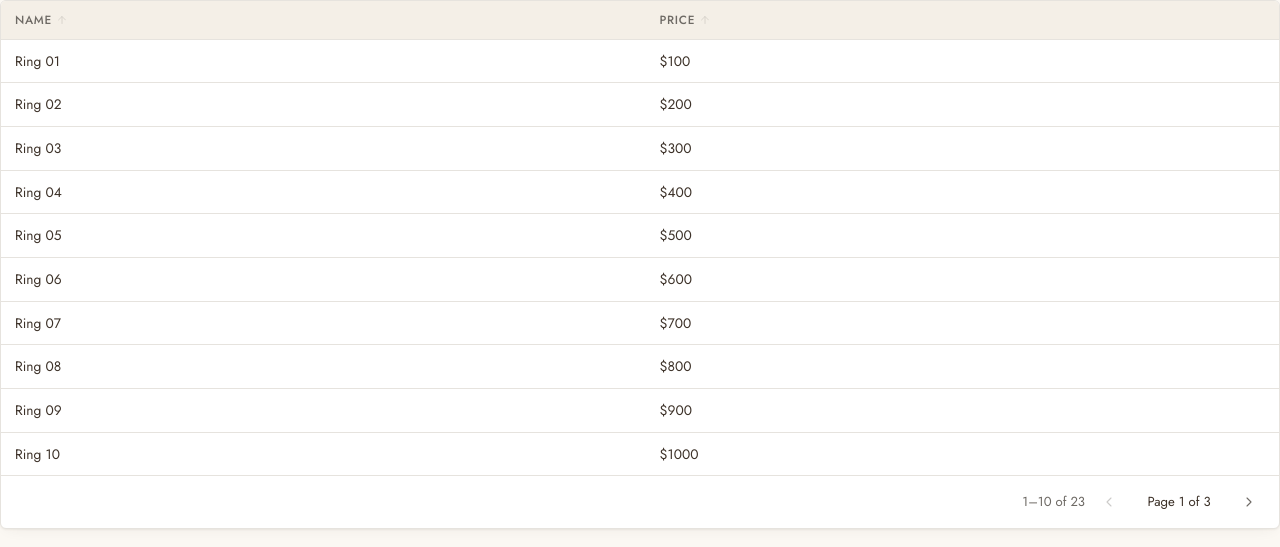
DataTable › shows one page of rows and moves between pages
The width and height of the screenshot is (1280, 547).
Expected: the text "1–10 of 23" is shown, x1=1022 y1=492 x2=1085 y2=512
Step 1. Click the button named "Next page" → (1249, 502), box x1=1233 y1=486 x2=1265 y2=518
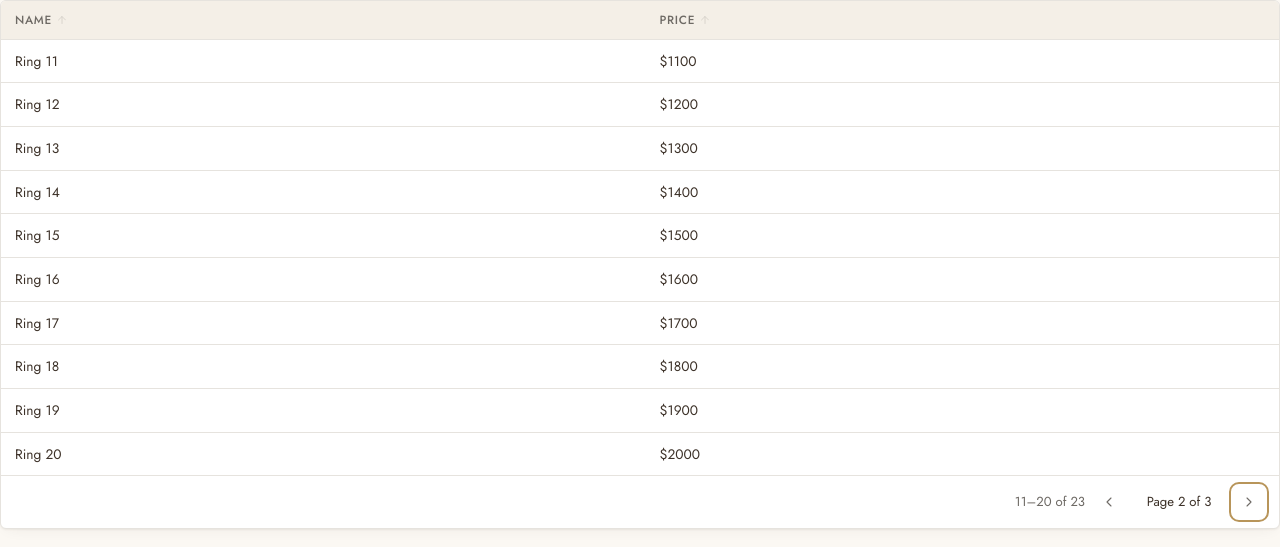
Now the text "11–20 of 23" is shown, box x1=1015 y1=492 x2=1085 y2=512
Now the text "Ring 11" is shown, box x1=1 y1=40 x2=646 y2=83
